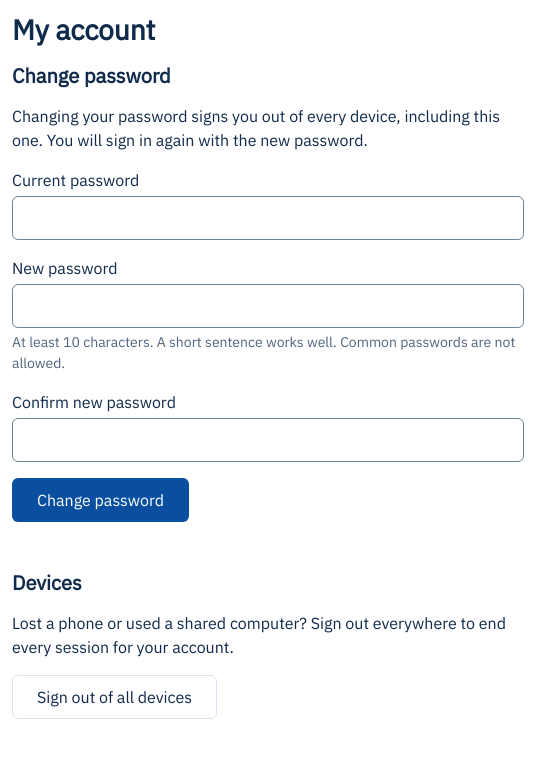
Test: AccountPage › shows the server's complaint under the right field and keeps what was typed
Type "wrong current" into the password field labelled "Current password".
click(268, 218); type("wrong current")  # box [12,196,524,240]
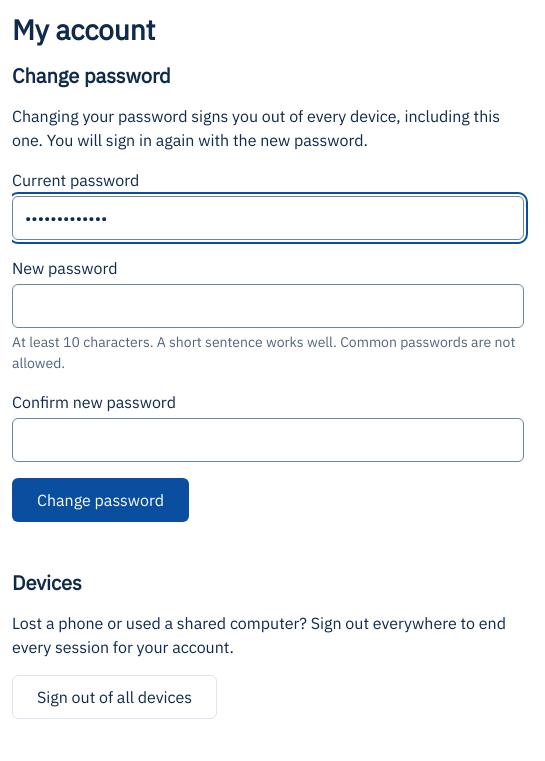
Type "a brand new passphrase" into the password field labelled "New password".
click(268, 306); type("a brand new passphrase")  # box [12,284,524,328]
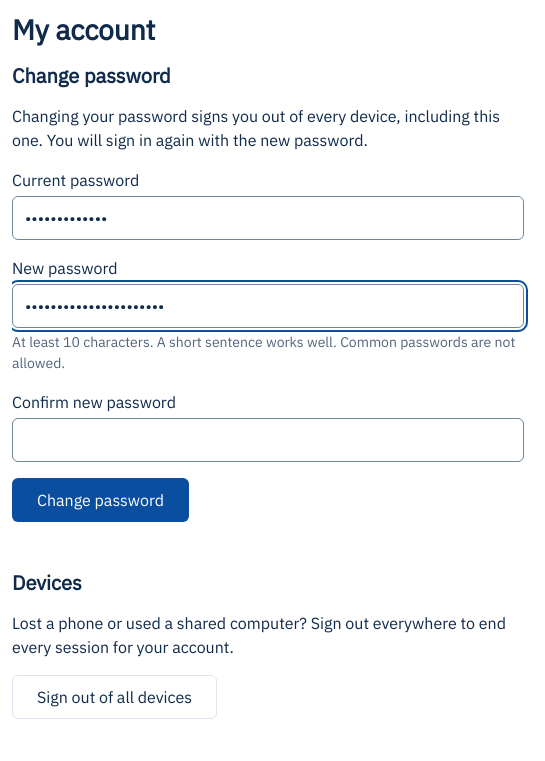
Type "a brand new passphrase" into the password field labelled "Confirm new password".
click(268, 440); type("a brand new passphrase")  # box [12,418,524,462]
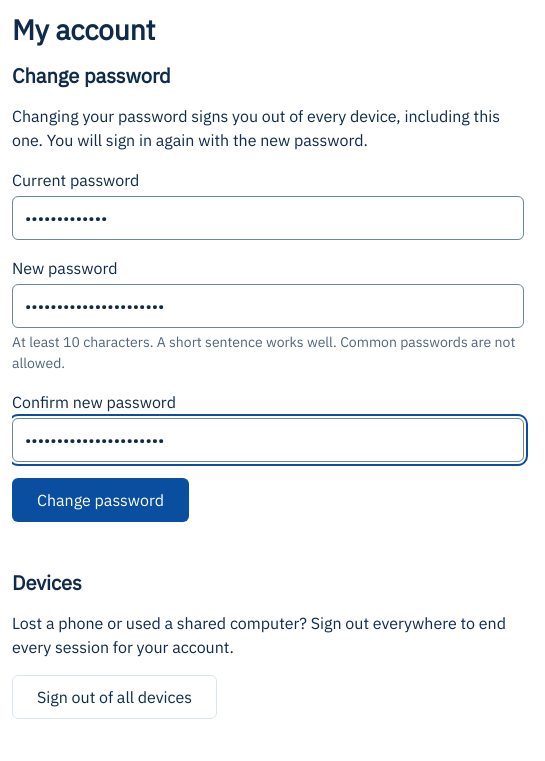
Click the button "Change password".
click(100, 500)  # box [12,478,189,522]
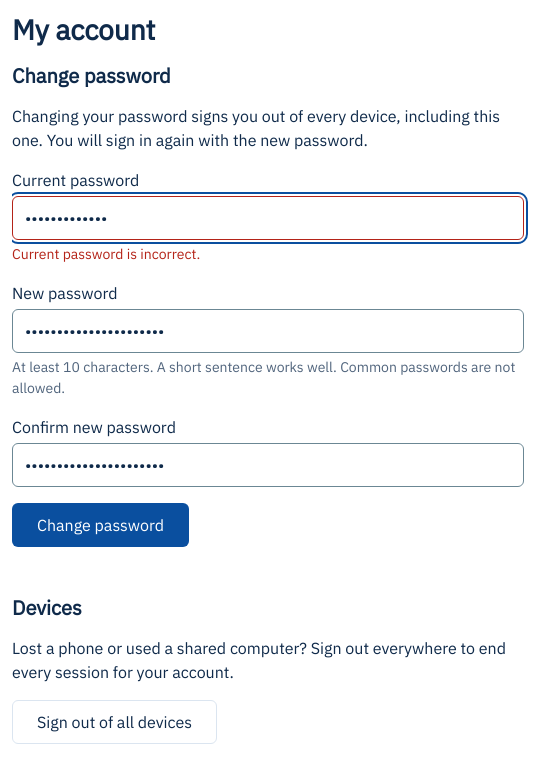
Expected: the text "Current password is incorrect." is shown, [12,245,200,263]
